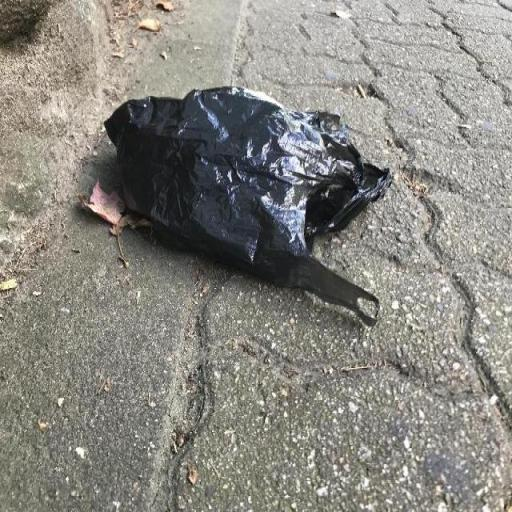plastic-bag: (100, 83, 394, 325)
